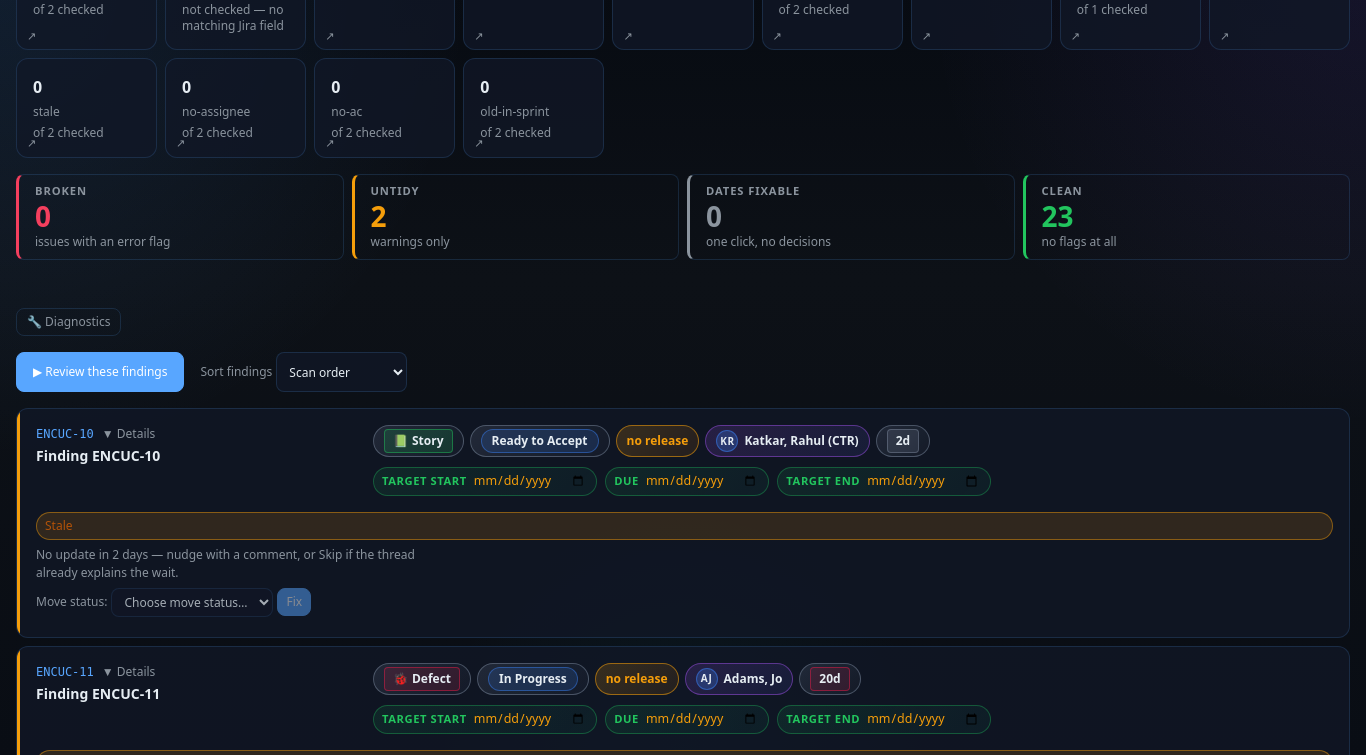
Test: HygieneView › walks a review session in the SORTED order when a sort is active
(page scrolled)
Step 1. Select "Assignee" in the dropdown labelled "Sort findings" → (342, 372), box [276, 352, 407, 392]
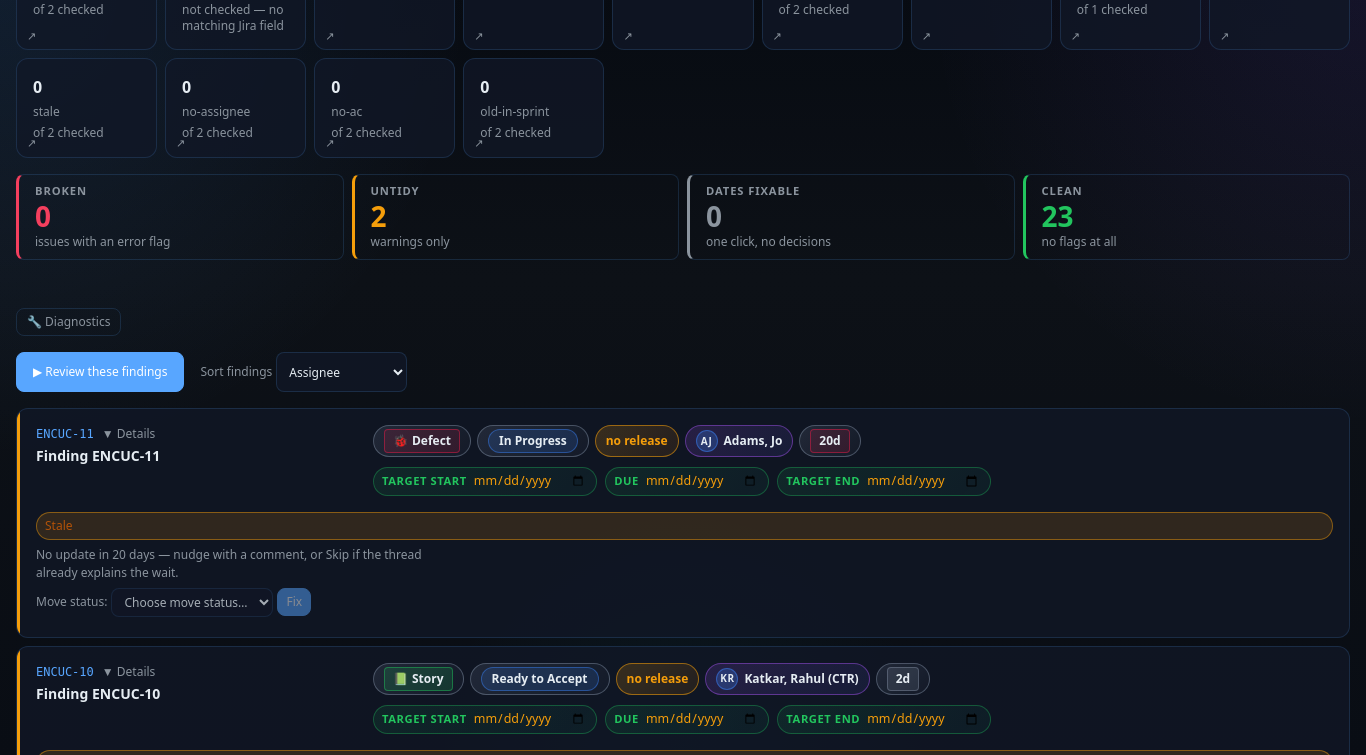
Step 2. Click the button "▶ Review these findings" → (100, 372), box [16, 352, 184, 392]
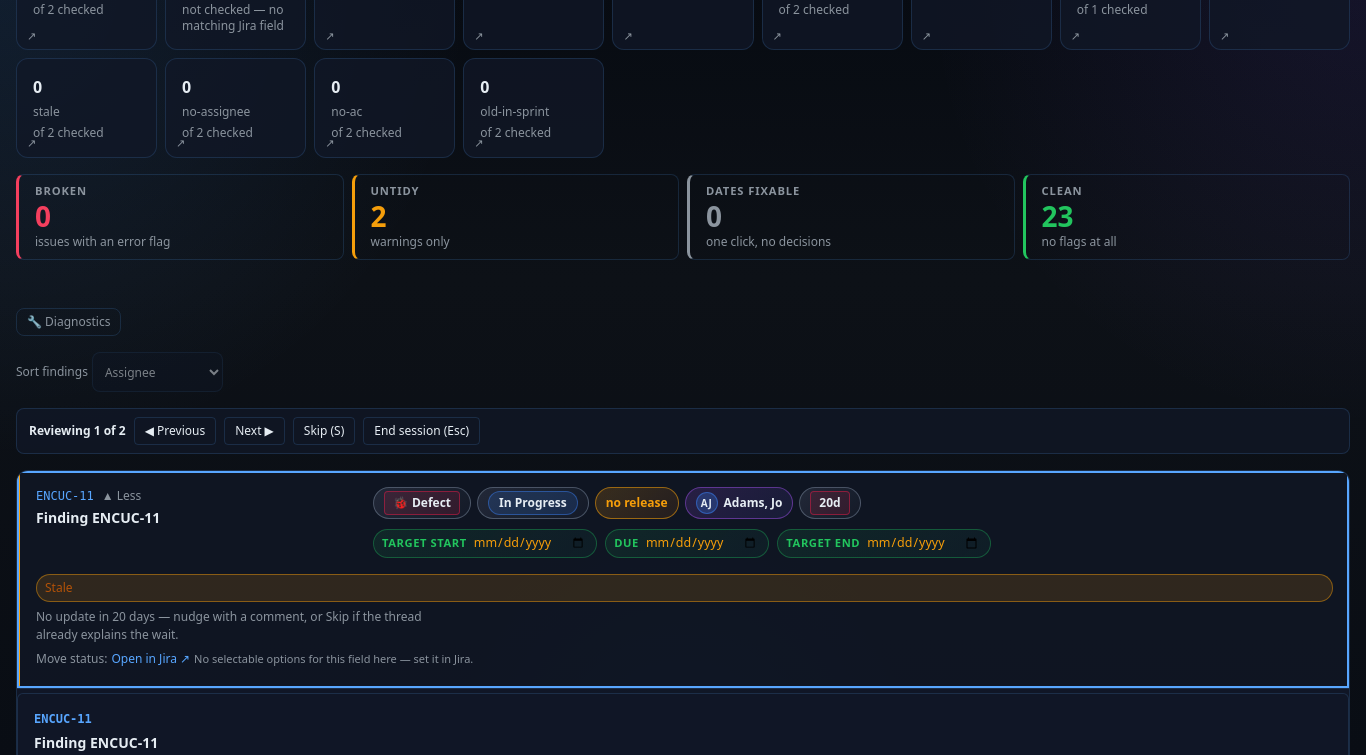
Now the text "Reviewing 1 of 2" is shown, box [29, 422, 126, 440]
Now the button "ENCUC-11" is expanded, box [17, 471, 1349, 688]
